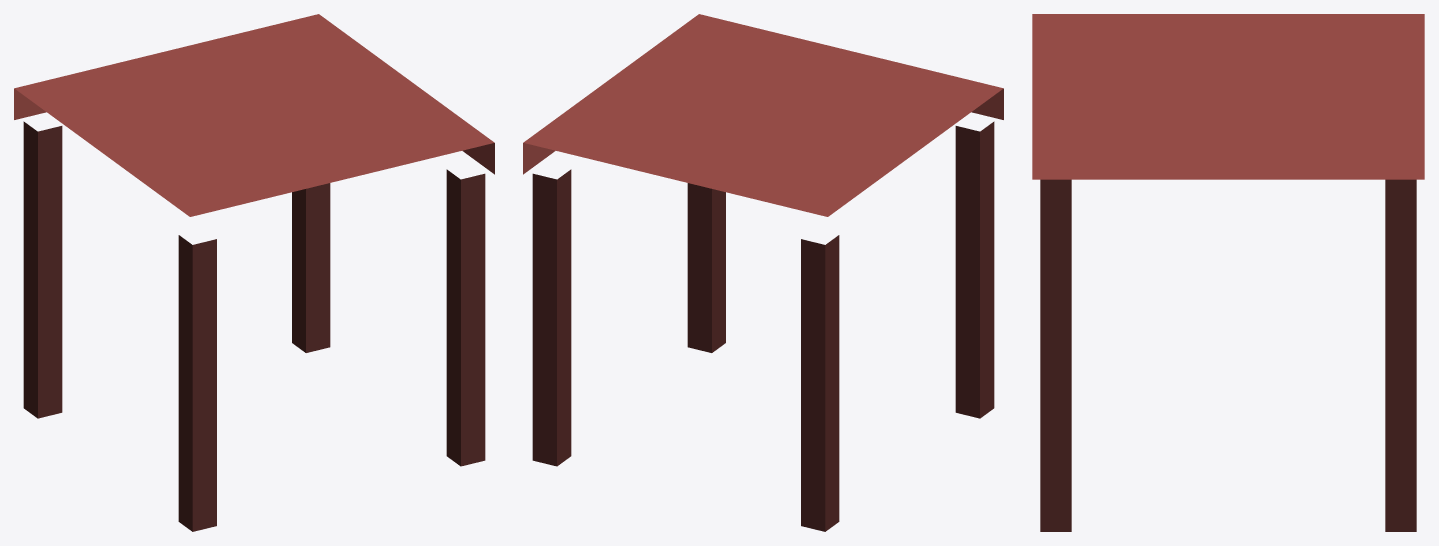
File: Table-red.glb
3 views of the same model, side by side, from view 1: azimuth 30°, elevation 25°; view 2: azimuth 150°, elevation 25°; view 3: azimuth 270°, elevation 25° (orthographic). The views are drawn at different scales.
Visible parts, largest first — view 1: Table; view 2: Table; view 3: Table.
Part boxes in pixels (x1,y1,x2,y2): Table: [14, 14, 494, 531]; Table: [523, 14, 1003, 531]; Table: [1032, 14, 1424, 531].
Size of the model in its own units: 1 by 1 by 1.
